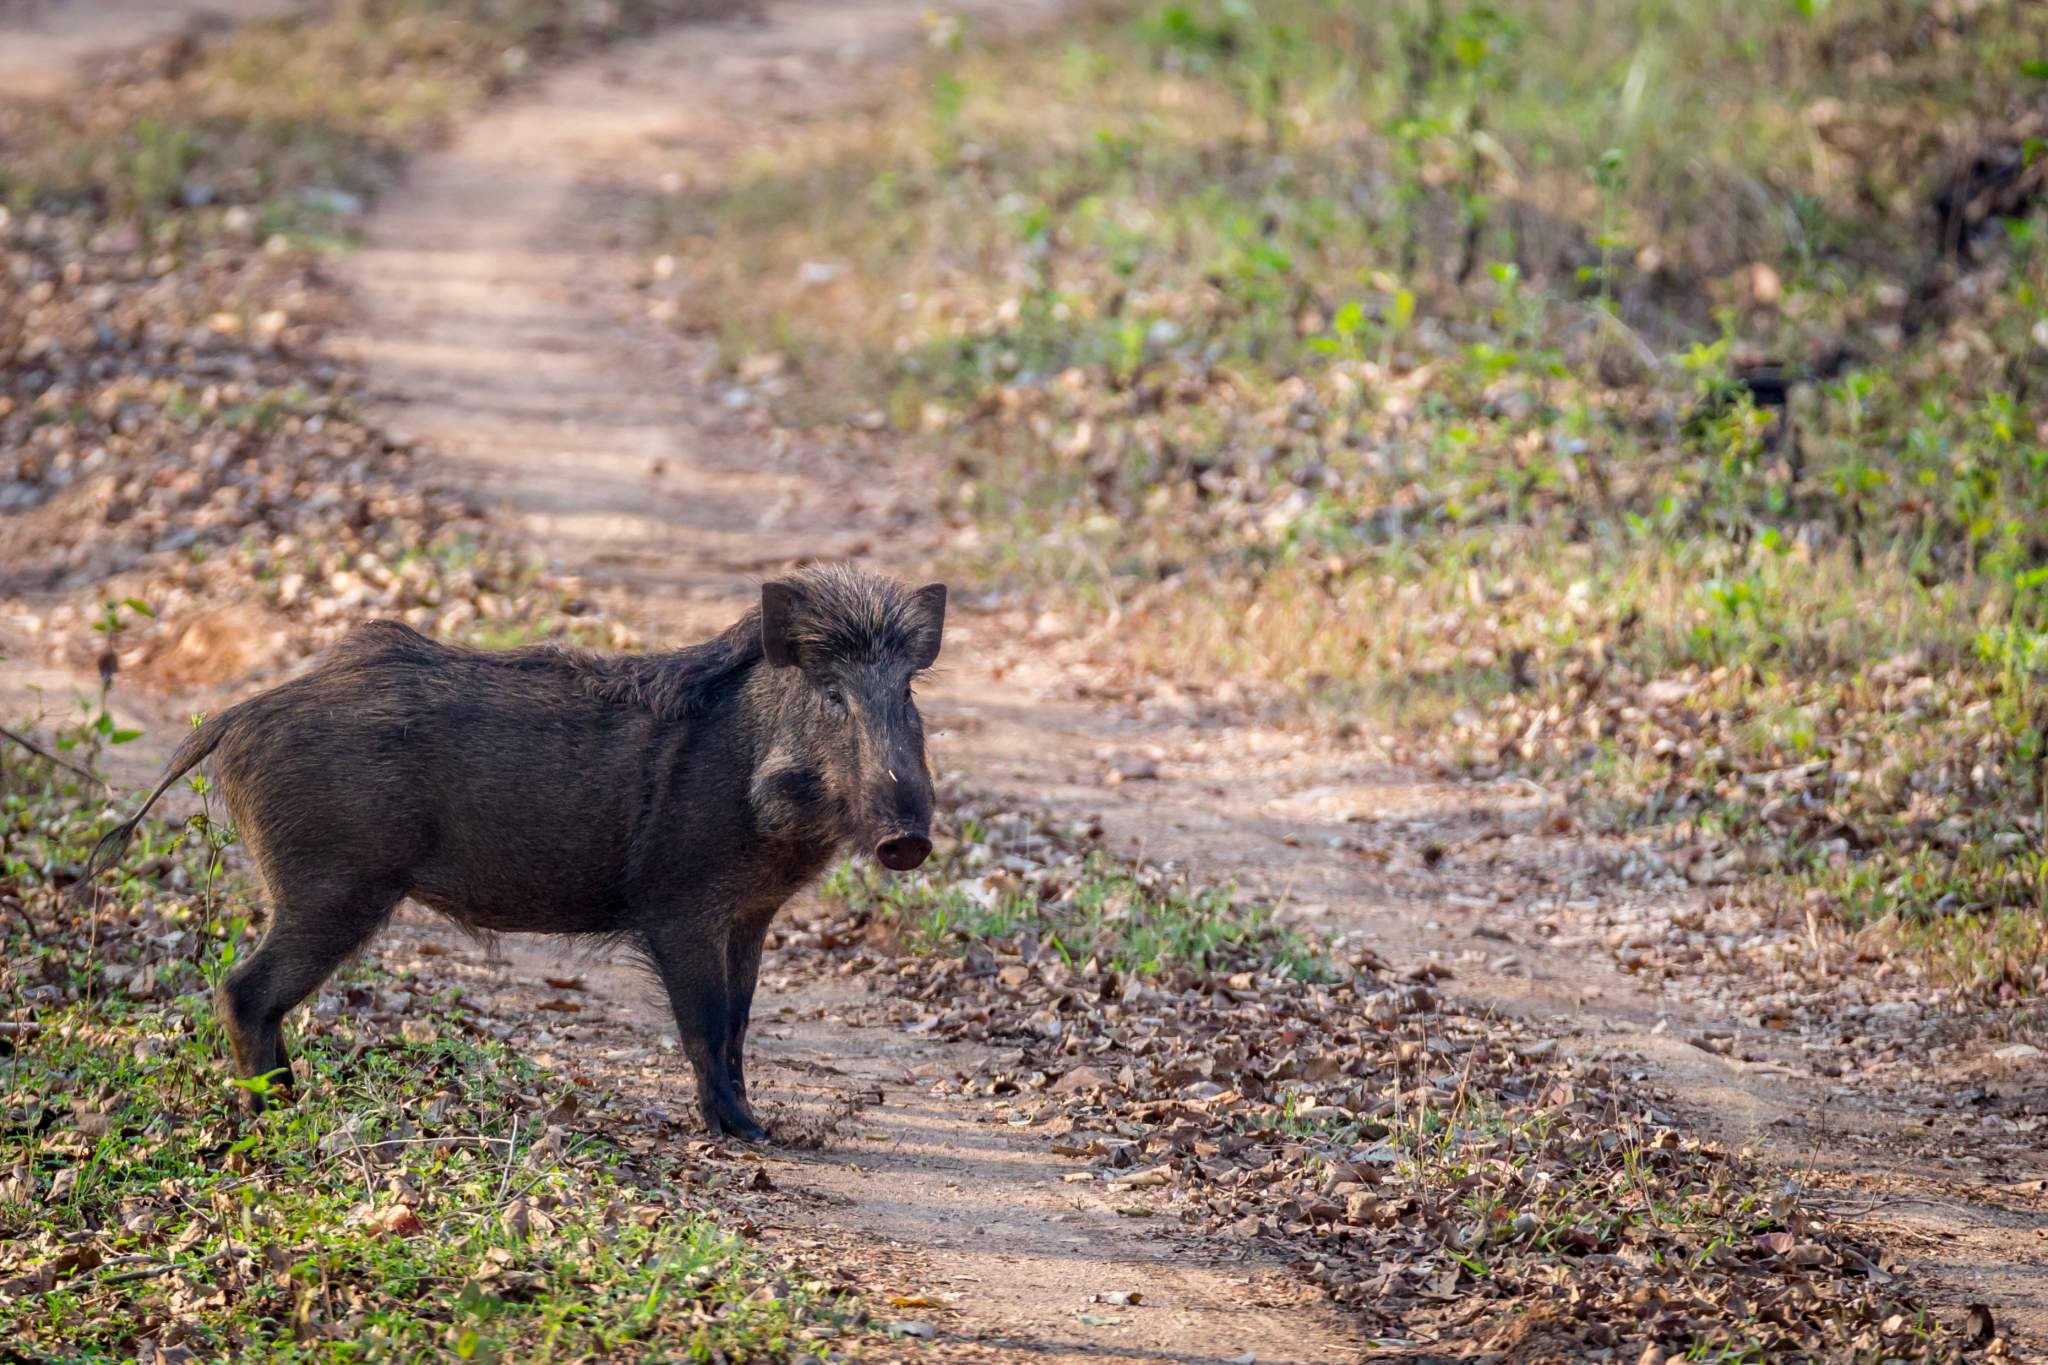wild boar: (129, 550, 1010, 1152)
